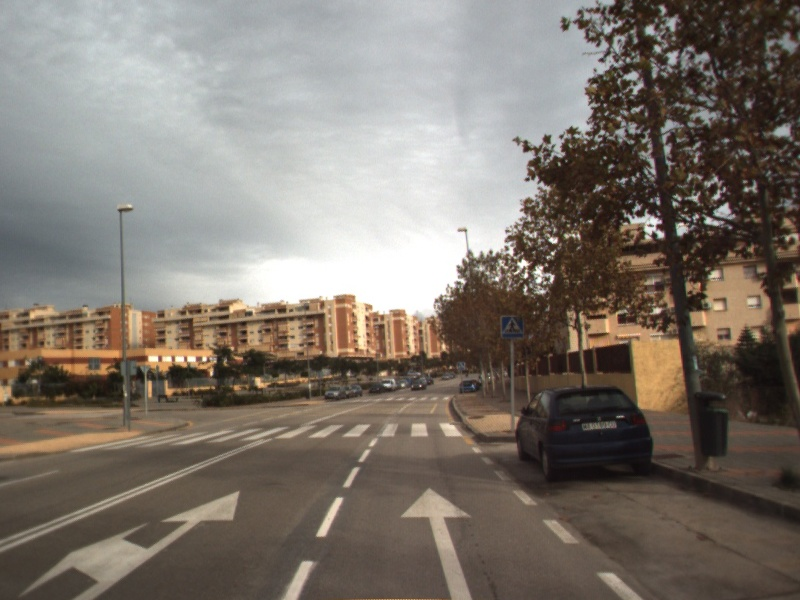STRAIGHT: (397, 485, 477, 600)
STRAIGHT_LEFT: (17, 486, 241, 600)
